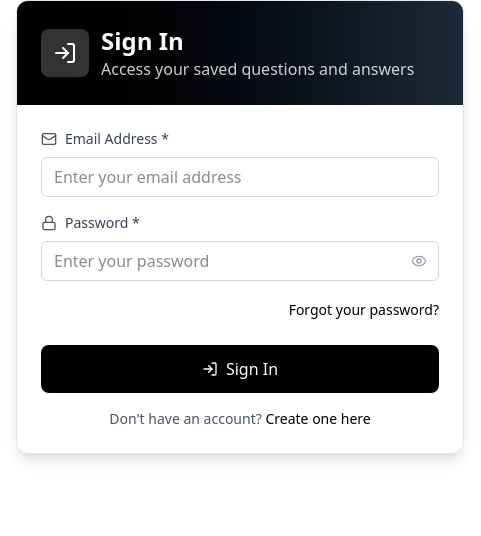
SignInForm › Form Validation › shows validation error for invalid email format
This screenshot has width=481, height=536.
In the field with test id "email-input": (240,177) [41,157,439,197], type "invalid-email"
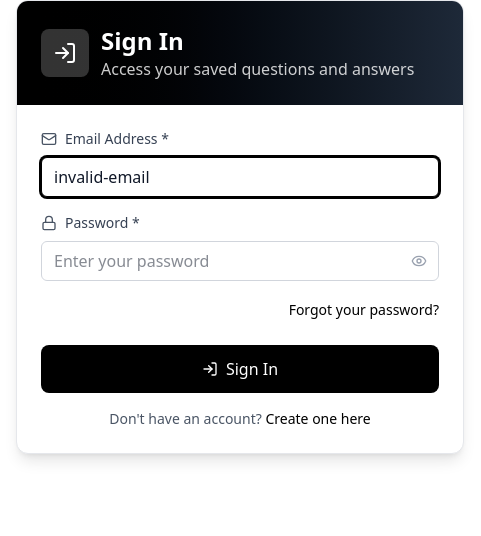
Click the button with test id "signin-button": (240,369) [41,345,439,393]
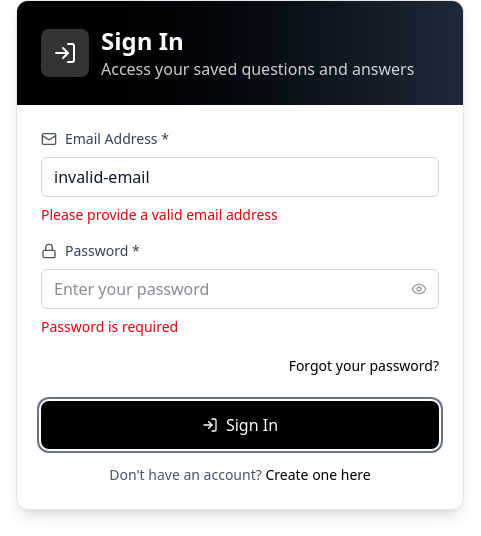
Expected: the text with test id "email-error" reads "Please provide a valid email address", [41,205,278,224]
